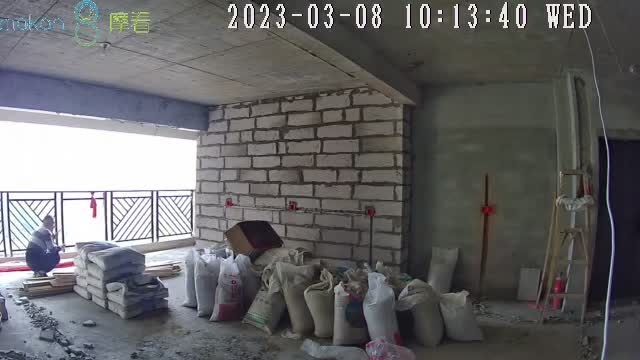people: (25, 216, 64, 276)
window: (1, 120, 197, 258)
